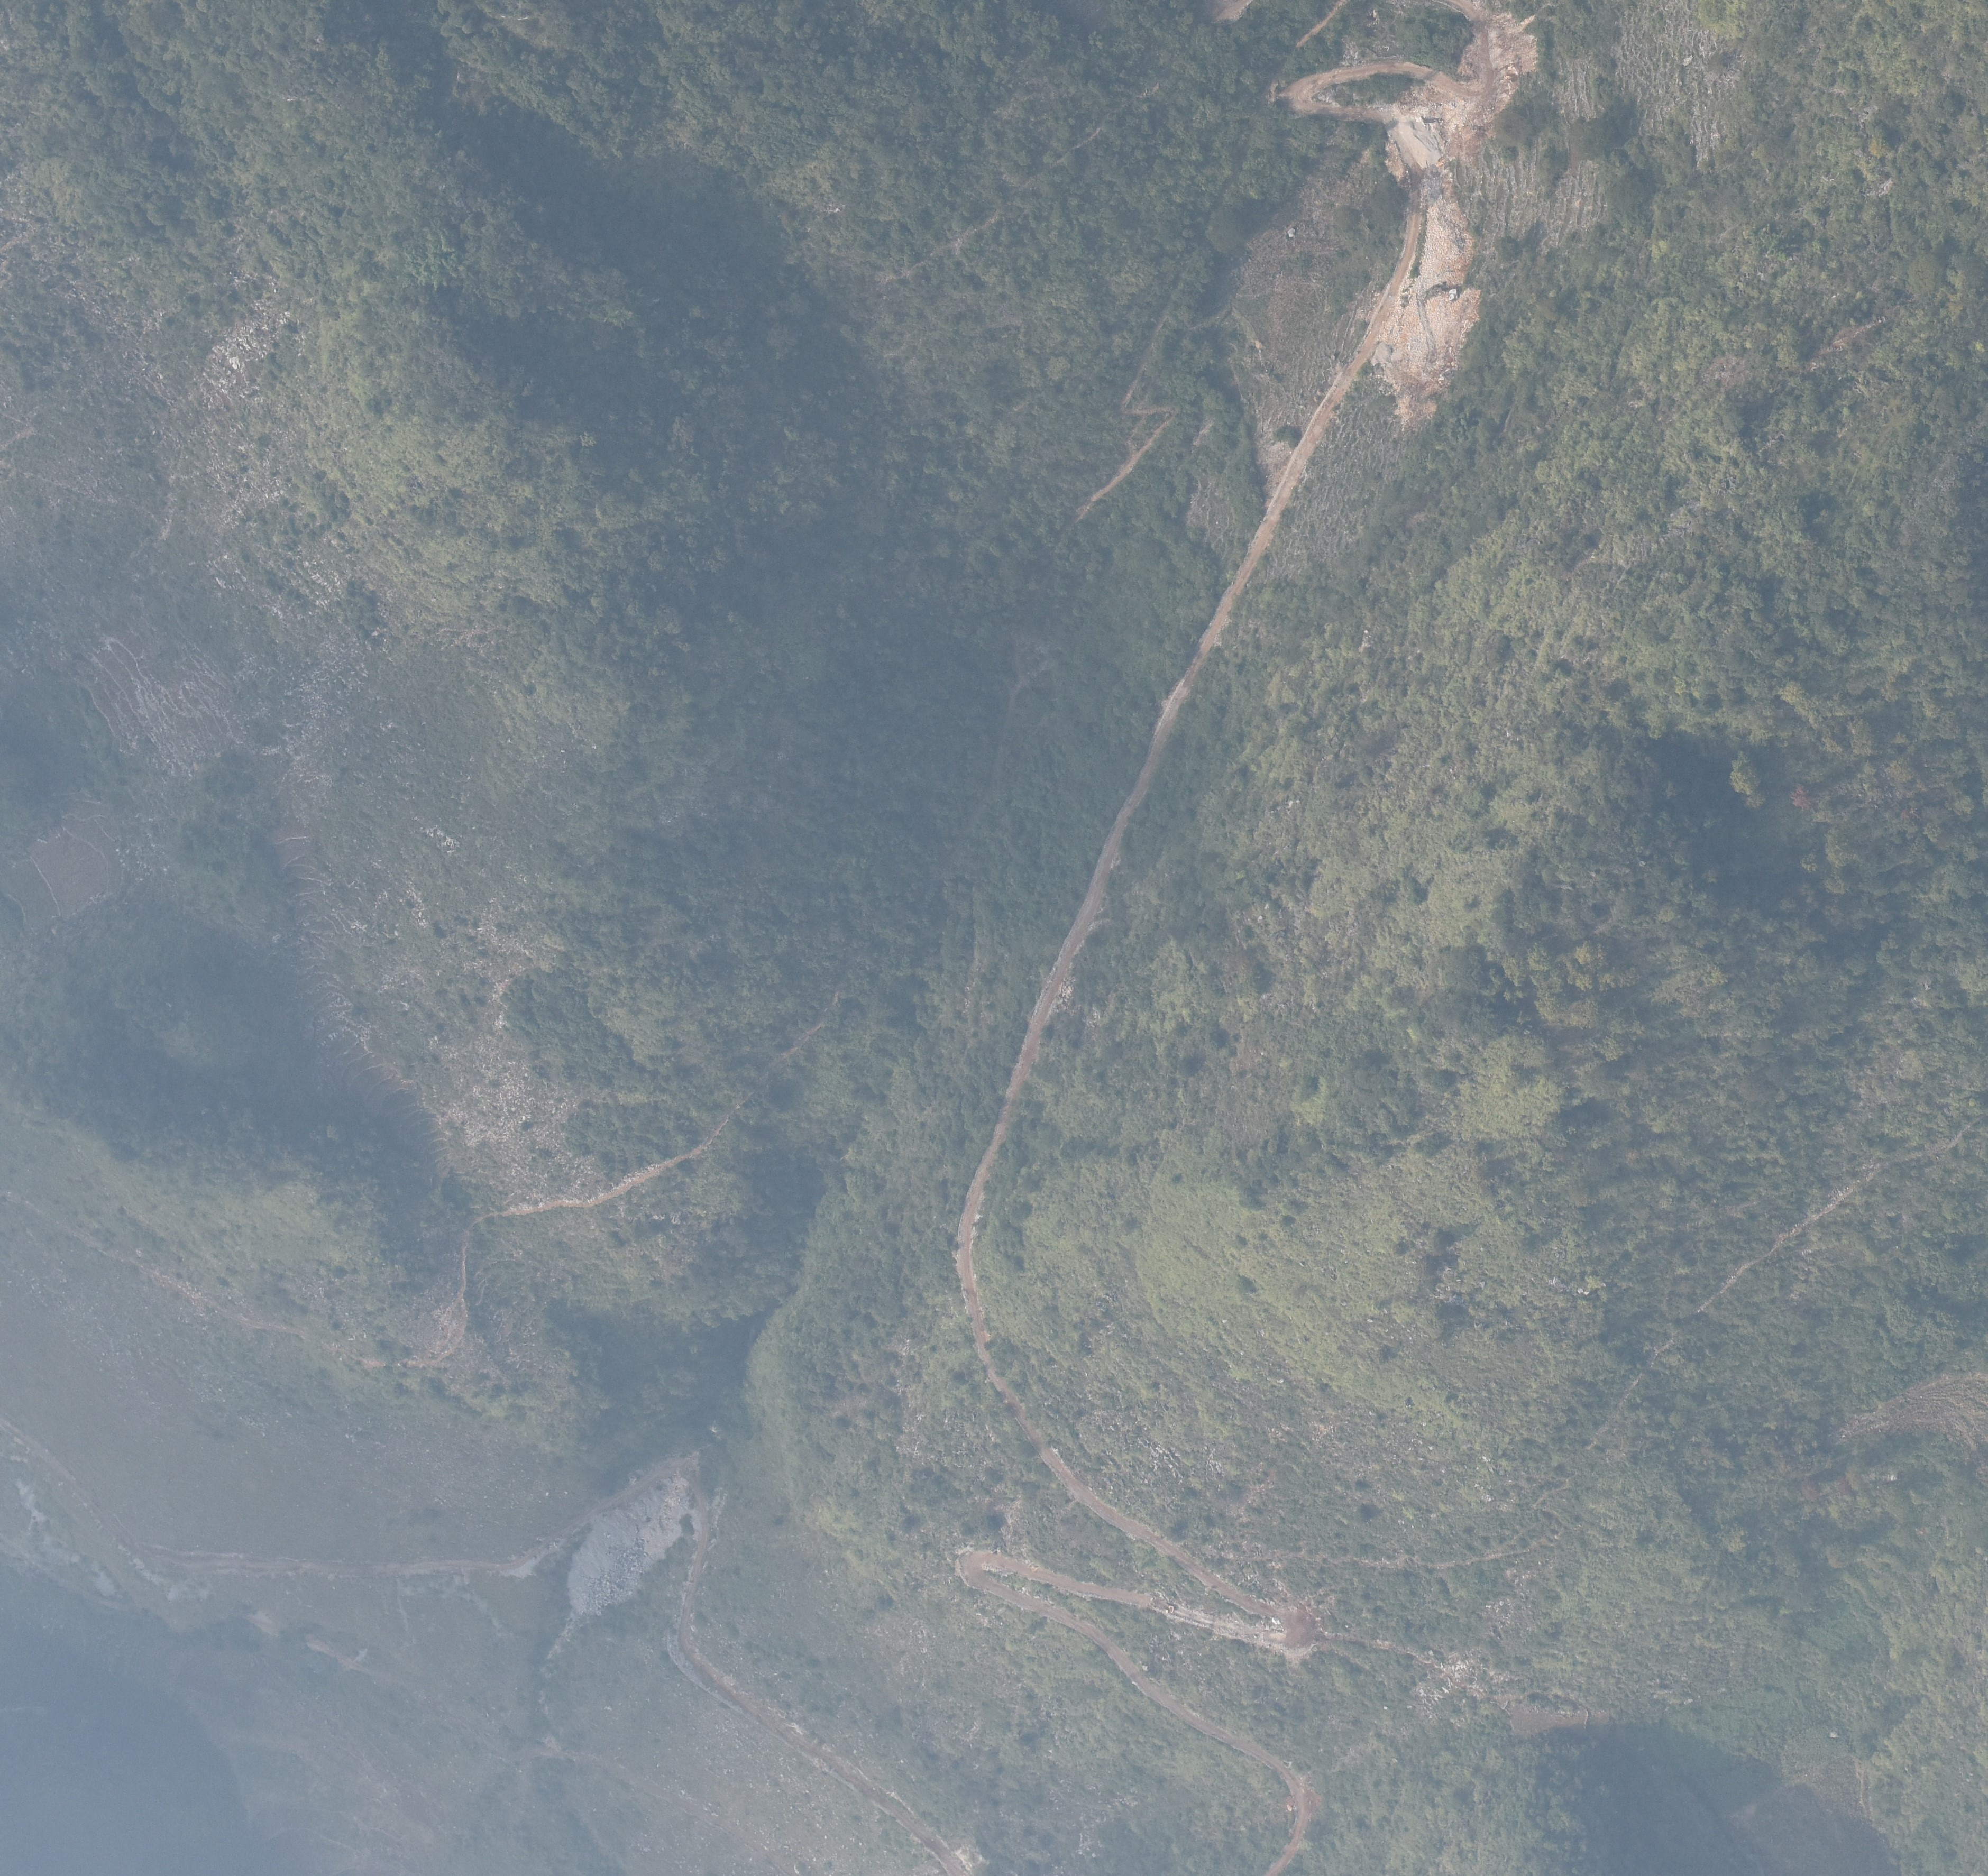quarry: (1361, 118, 1507, 426), (565, 1465, 701, 1618)
